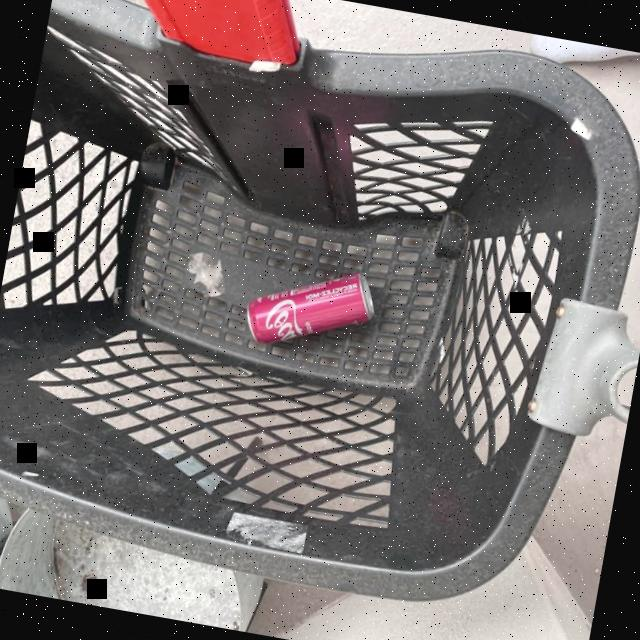can: (237, 253, 385, 362)
